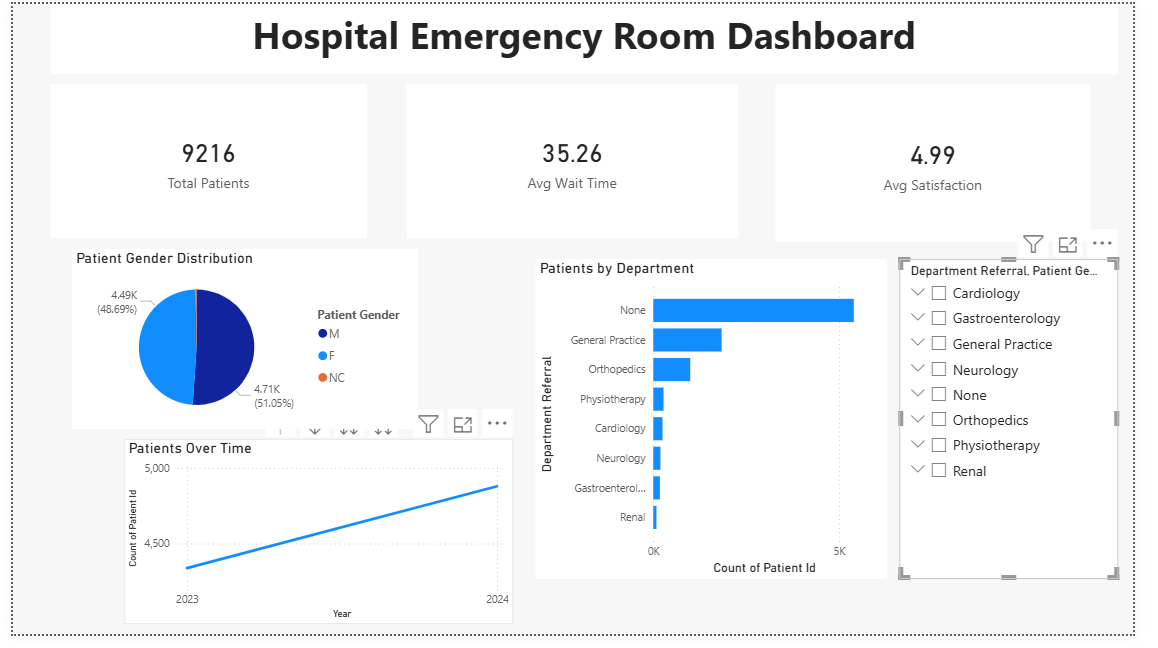

The dashboard page shown, as its layout file describes it:
{"tool":"powerbi","page":{"name":"Page 1","canvas":[1280,720],"ordinal":0},"visuals":[{"type":"card","fields":{"Values":["Hospital ER_Data.Total Patients"]},"box":[42.9,91.4,361.4,175.7],"z":0},{"type":"card","fields":{"Values":["Hospital ER_Data.Avg Wait Time"]},"box":[450,91.4,378.6,175.7],"z":1000},{"type":"card","fields":{"Values":["Hospital ER_Data.Avg Satisfaction"]},"box":[871.4,91.4,360,180],"z":2000},{"type":"clusteredBarChart","title":"Patients by Department","fields":{"Category":["Hospital ER_Data.Department Referral"],"Y":["CountNonNull(Hospital ER_Data.Patient Id)"]},"box":[597.1,291.4,401.4,365.7],"z":3000},{"type":"lineChart","title":"Patients Over Time","fields":{"Category":["Hospital ER_Data.Patient Admission Date.Variation.Date Hierarchy.Year","Hospital ER_Data.Patient Admission Date.Variation.Date Hierarchy.Quarter","Hospital ER_Data.Patient Admission Date.Variation.Date Hierarchy.Month","Hospital ER_Data.Patient Admission Date.Variation.Date Hierarchy.Day"],"Y":["CountNonNull(Hospital ER_Data.Patient Id)"]},"box":[127.1,497.1,444.3,211.4],"z":4000},{"type":"pieChart","title":"Patient Gender Distribution","fields":{"Category":["Hospital ER_Data.Patient Gender"],"Y":["CountNonNull(Hospital ER_Data.Patient Id)"]},"box":[67.1,280,395.7,205.7],"z":5000},{"type":"slicer","fields":{"Values":["Hospital ER_Data.Department Referral","Hospital ER_Data.Patient Gender","Hospital ER_Data.Patient Admission Date"]},"box":[1012.9,291.4,250,365.7],"z":6000},{"type":"textbox","box":[42.9,0,1220,80],"z":8000}]}

Visuals, with their boxes in screenshot pixels (x1, y1, x2, y2), scaled from the page's 1280x720 canvas onto the 1158x648 screenshot:
card - Hospital ER_Data.Total Patients: [39, 82, 366, 240]
card - Hospital ER_Data.Avg Wait Time: [407, 82, 750, 240]
card - Hospital ER_Data.Avg Satisfaction: [788, 82, 1114, 244]
"Patients by Department" clusteredBarChart: [540, 262, 903, 591]
"Patients Over Time" lineChart: [115, 447, 517, 638]
"Patient Gender Distribution" pieChart: [61, 252, 419, 437]
slicer - Hospital ER_Data.Department Referral x Hospital ER_Data.Patient Gender: [916, 262, 1143, 591]
textbox: [39, 0, 1143, 72]
